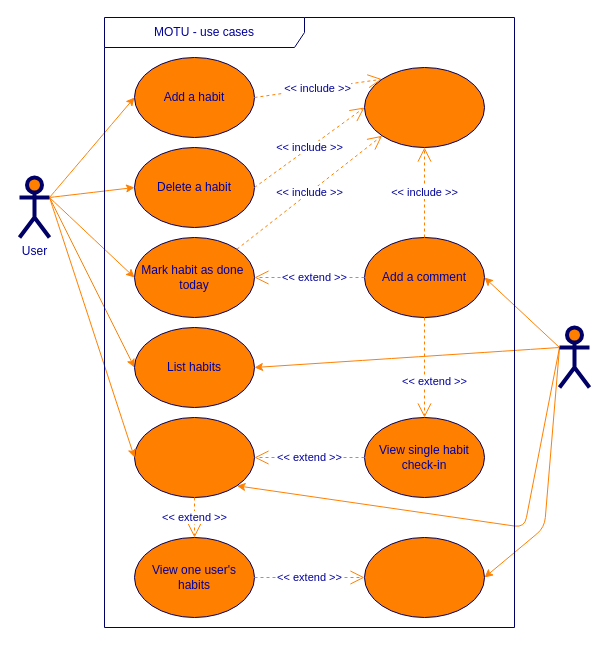
Image size: 609x645. Some labels were removed from this diagram. The shapes that lost their labels are listed below. From the top down, each one's centre as x and y in pixels, then its label:
(x=424, y=107): Update habit history
(x=574, y=357): Coach
(x=194, y=457): View habit history
(x=424, y=577): List all users
